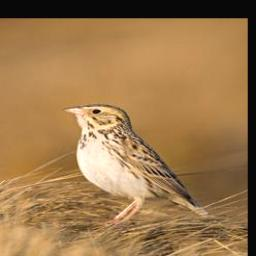Sparrow: (61, 103, 212, 225)
